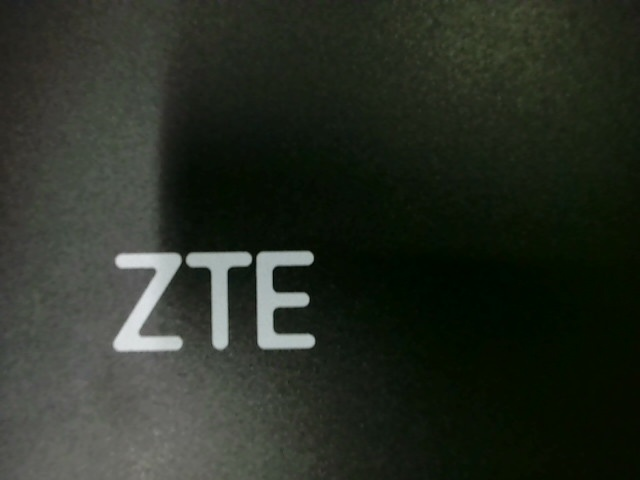AN_ZTE: (96, 244, 326, 361)
